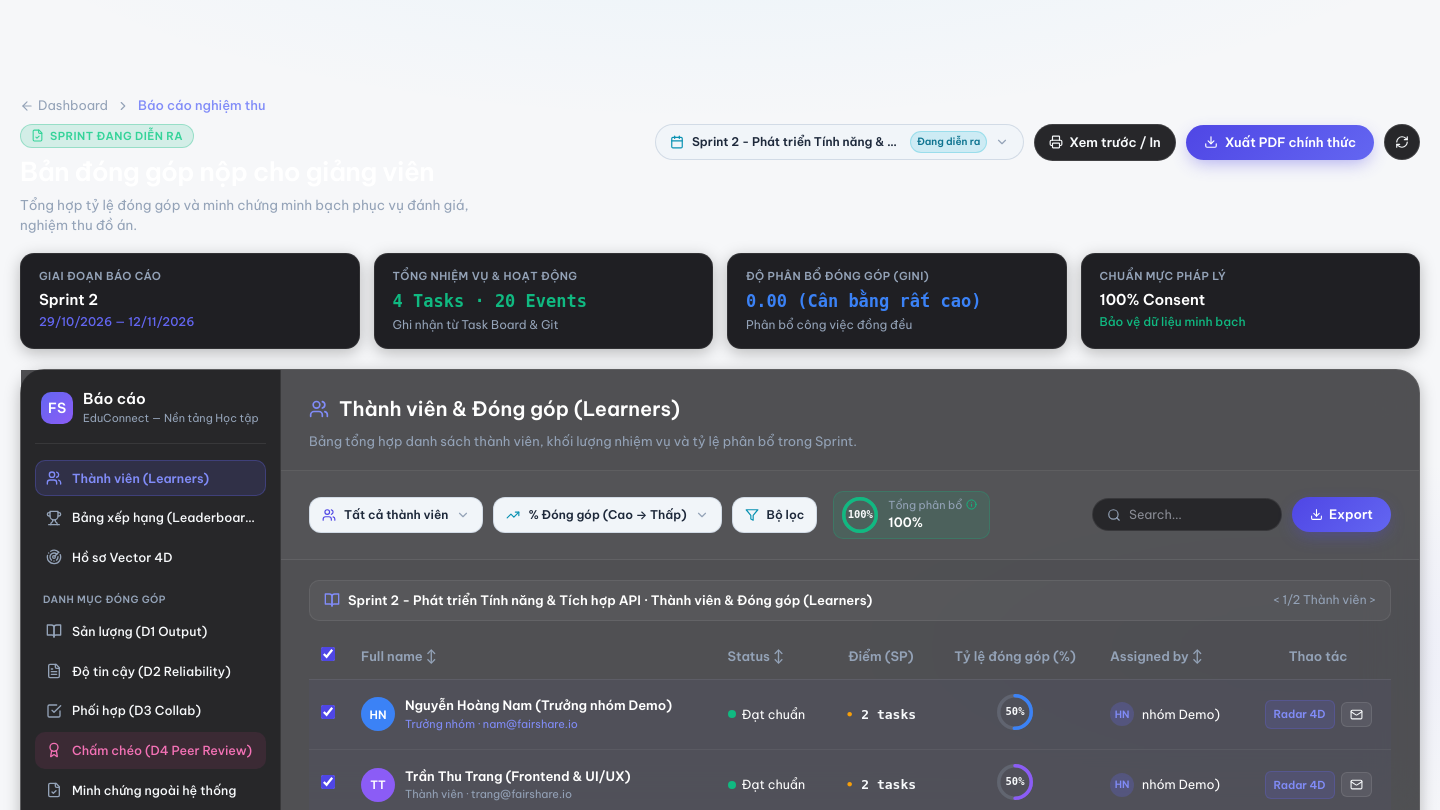
Test: ReportPage Component (Official Academic PDF & Synchronized Theme) › opens electronic signature modal and exports PDF when clicking Xuất PDF chính thức
Click the button "Xuất PDF chính thức". click: point(1280, 142)
box: [1186,124,1374,160]
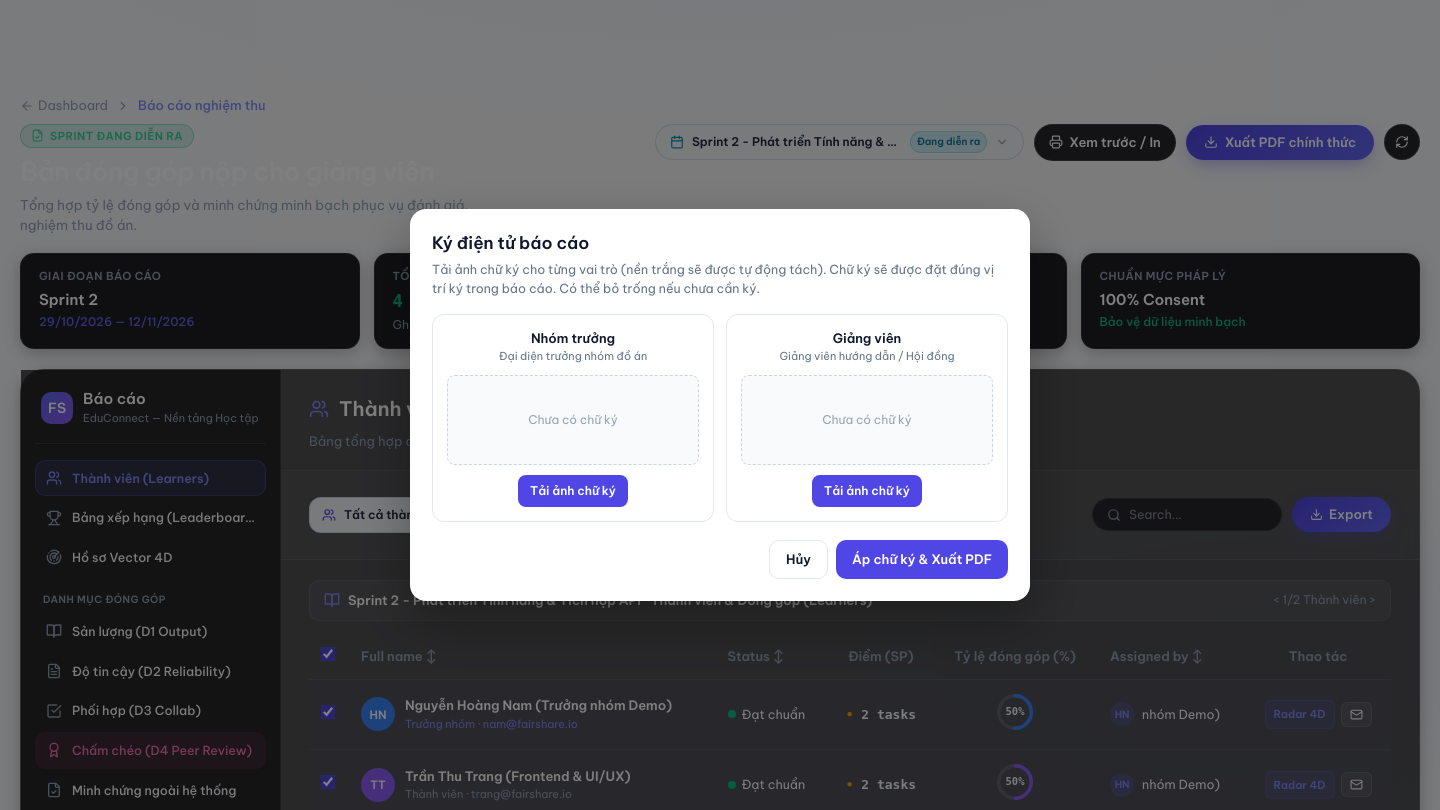
Expected: the heading "Ký điện tử báo cáo" is shown, [432,232,589,254]
Click the button "Áp chữ ký & Xuất PDF". click: point(922, 560)
box: [836,540,1008,579]
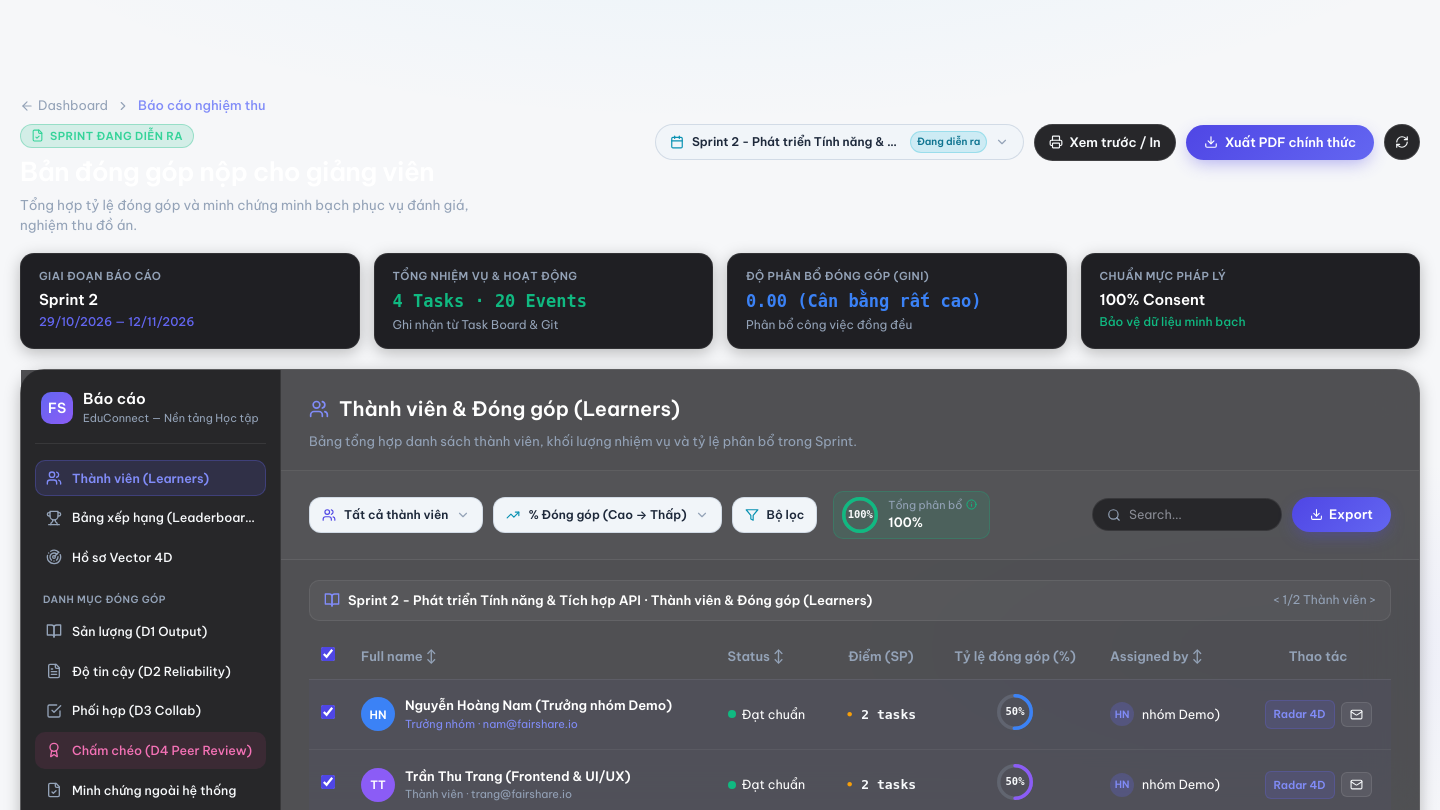
Expected: the heading "Ký điện tử báo cáo" is gone
